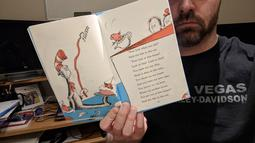text block: (121, 41, 178, 103)
